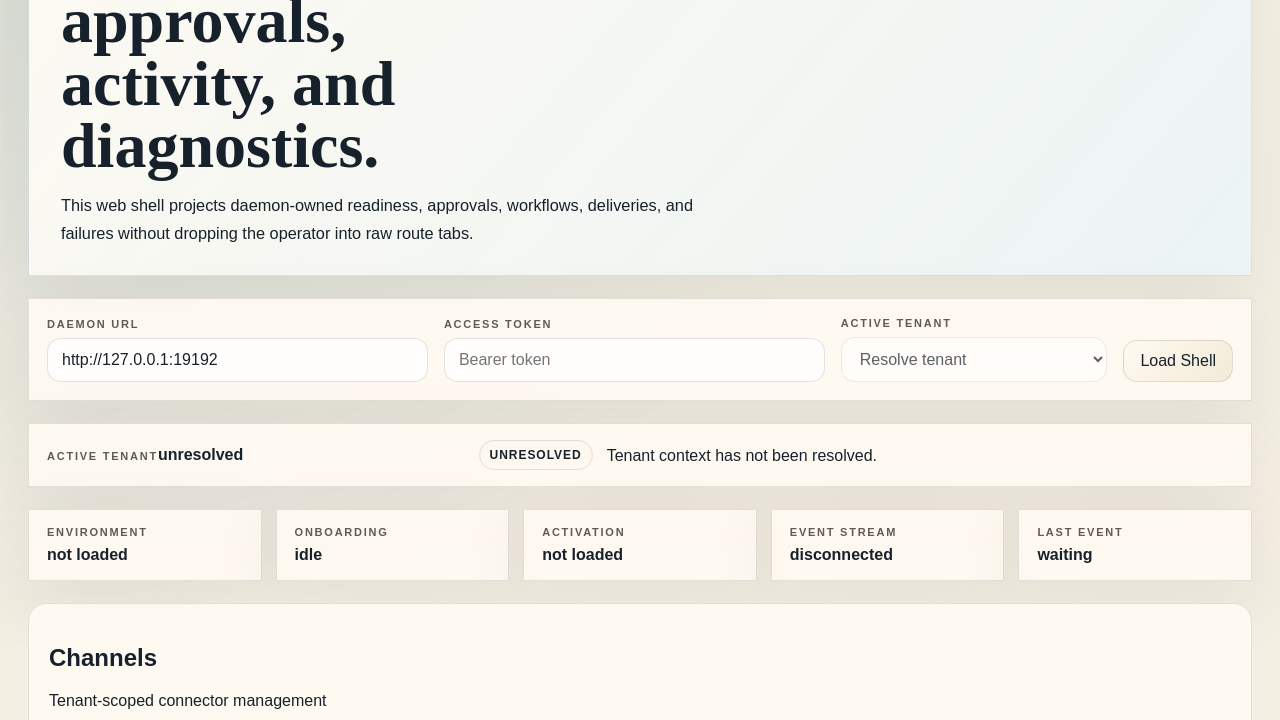
Test case: App › keeps the shell rendered when evaluation collection fields arrive as null
(page scrolled)
Type "token" into the password field labelled "Access Token". click: coordinates (634, 360)
box: [444,338,825,382]
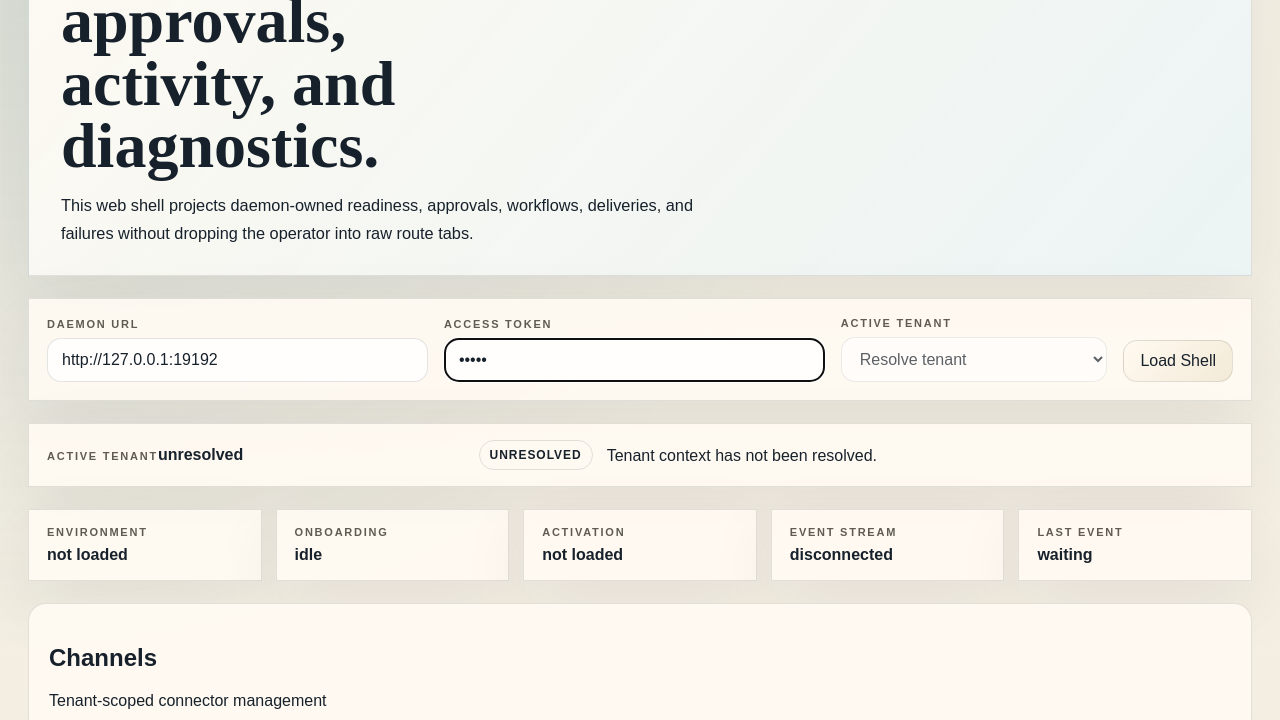
Click the button "Load Shell". click: coordinates (1178, 362)
box: [1123,340,1233,382]
(page scrolled)
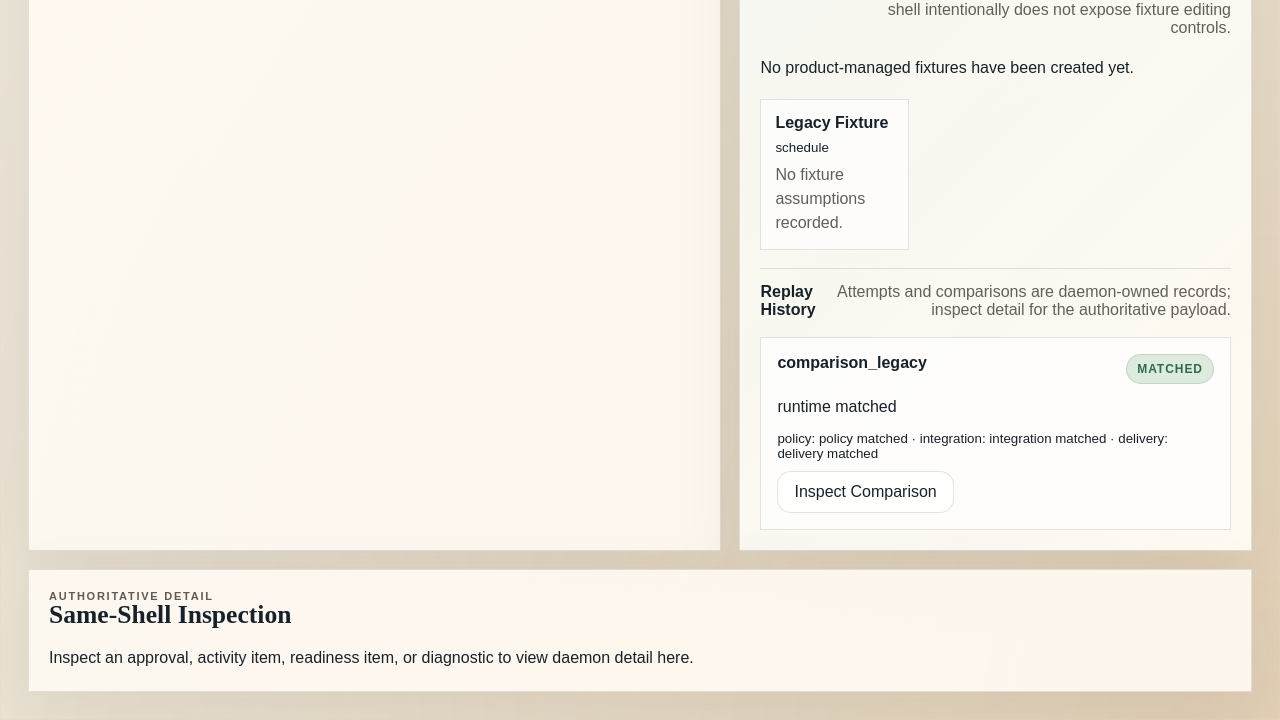
expect the text "No fixture assumptions recorded." is shown: met, box [775,166,865,231]
expect the text "comparison_legacy" is shown: met, box [777,354,927,372]
